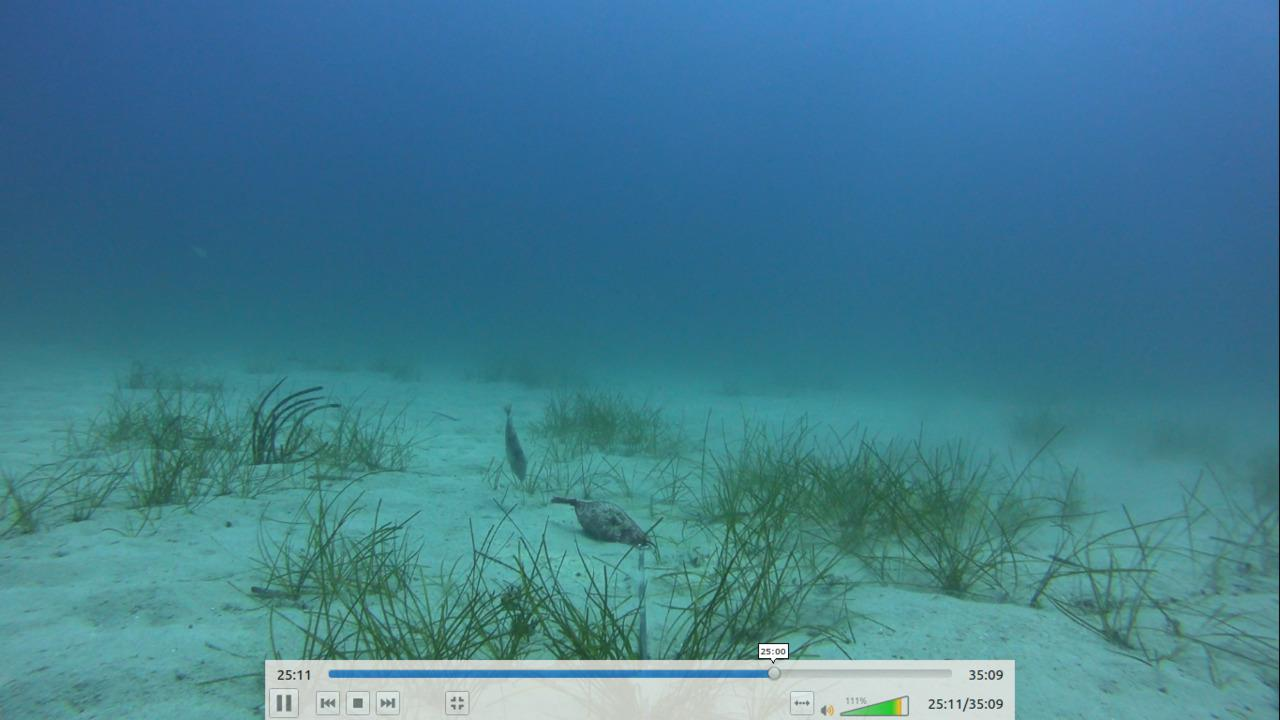raor: (490, 395, 538, 490)
